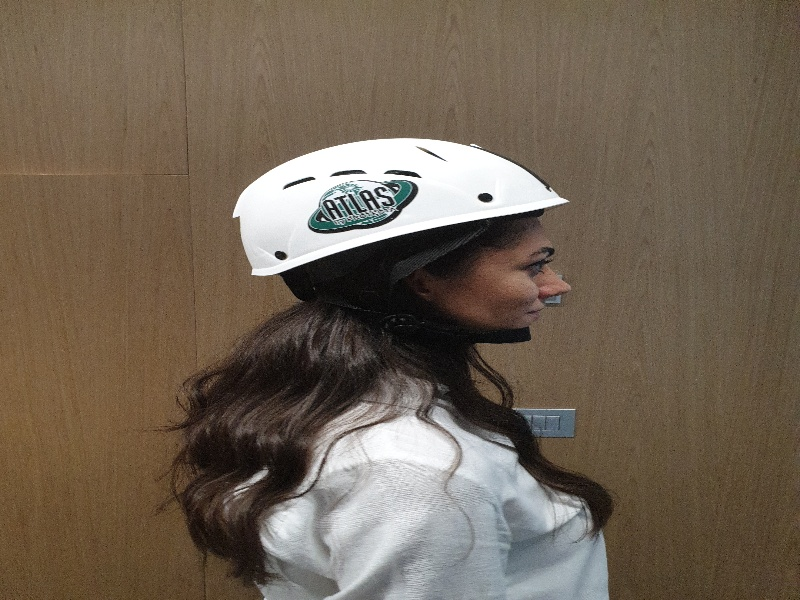Baret: (233, 139, 574, 267)
